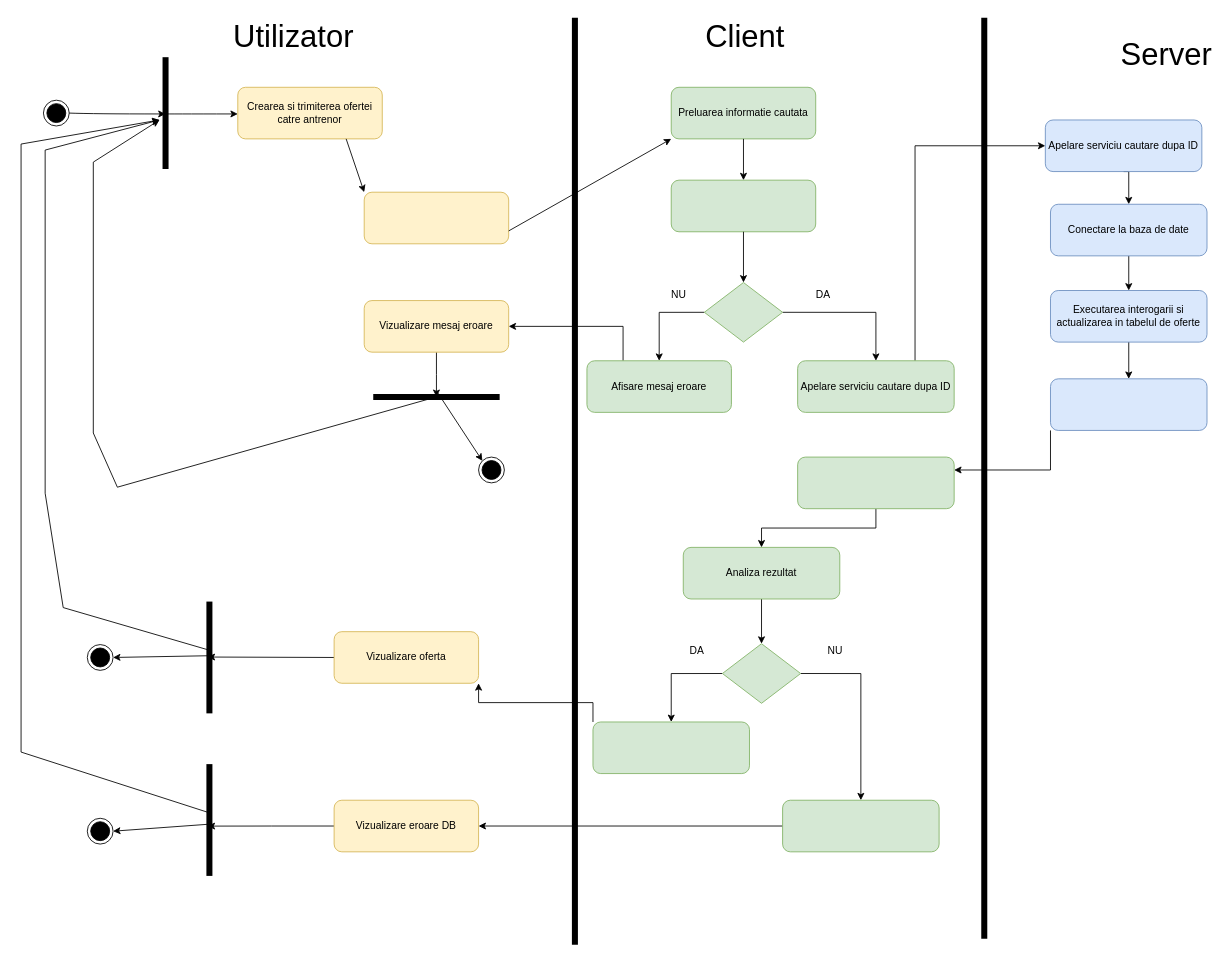
Some shapes in this 1227 by 963 pixel diagram are drawn without their labels. Here are the shapes that lost their labels. From the top down, the centre of each, then its label:
the point at 436,217: Generare cautare antrenor
the point at 743,205: Validare informatie cautata si date introduse in oferta
the point at 1128,404: Deconectarea de la baza de date
the point at 875,482: Preluare rezultat interogare
the point at 670,747: Salvare date oferta
the point at 860,825: Afisare mesaj eroare DB
